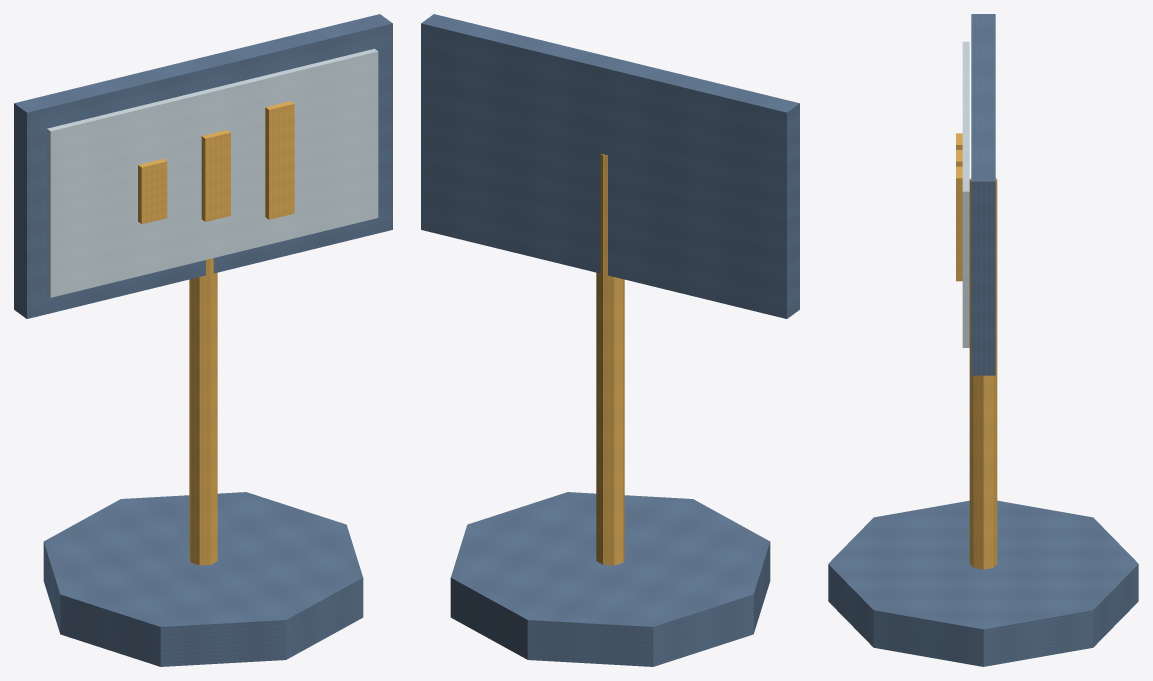
The model's file is atlas100-s051-a11.glb.
3 views of the same model, side by side, from view 1: azimuth 30°, elevation 25°; view 2: azimuth 150°, elevation 25°; view 3: azimuth 270°, elevation 25° (orthographic). The views are drawn at different scales.
Parts seen in each view (by area): view 1: atlas100-s051-a11:part-003, atlas100-s051-a11:part-000, atlas100-s051-a11:part-002, atlas100-s051-a11:part-001, atlas100-s051-a11:part-006, atlas100-s051-a11:part-005, atlas100-s051-a11:part-004; view 2: atlas100-s051-a11:part-002, atlas100-s051-a11:part-000, atlas100-s051-a11:part-001; view 3: atlas100-s051-a11:part-000, atlas100-s051-a11:part-002, atlas100-s051-a11:part-001, atlas100-s051-a11:part-003, atlas100-s051-a11:part-006.
Boxes of the visible parts, left/top/right/bottom form: atlas100-s051-a11:part-003: left=47, top=48, right=378, bottom=297; atlas100-s051-a11:part-000: left=43, top=492, right=363, bottom=666; atlas100-s051-a11:part-002: left=14, top=14, right=392, bottom=318; atlas100-s051-a11:part-001: left=189, top=258, right=217, bottom=565; atlas100-s051-a11:part-006: left=265, top=101, right=294, bottom=219; atlas100-s051-a11:part-005: left=201, top=130, right=230, bottom=221; atlas100-s051-a11:part-004: left=138, top=159, right=167, bottom=223; atlas100-s051-a11:part-002: left=421, top=14, right=799, bottom=318; atlas100-s051-a11:part-000: left=450, top=492, right=770, bottom=666; atlas100-s051-a11:part-001: left=596, top=154, right=624, bottom=565; atlas100-s051-a11:part-000: left=828, top=500, right=1138, bottom=666; atlas100-s051-a11:part-002: left=971, top=14, right=995, bottom=375; atlas100-s051-a11:part-001: left=969, top=178, right=997, bottom=569; atlas100-s051-a11:part-003: left=962, top=41, right=969, bottom=347; atlas100-s051-a11:part-006: left=956, top=166, right=962, bottom=281.
Size of the model in its own units: 1.15 by 1.61 by 0.9.
3 materials, 3 textured.
